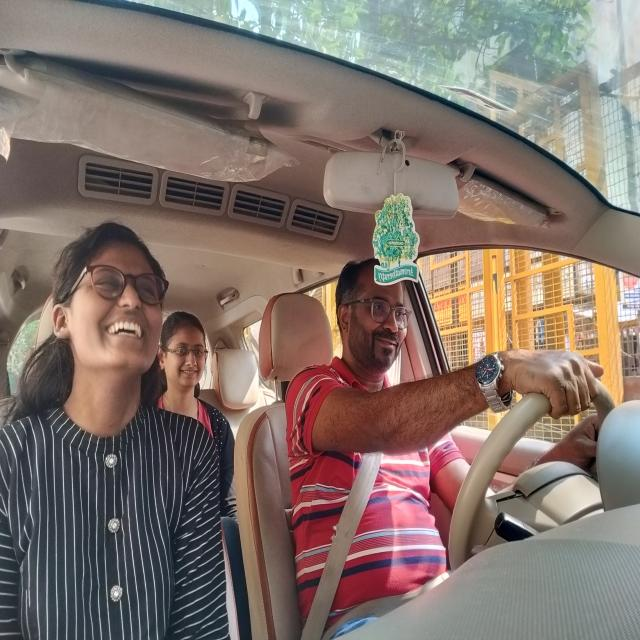person: (41, 218, 176, 401), (329, 253, 420, 379), (163, 297, 216, 413)
